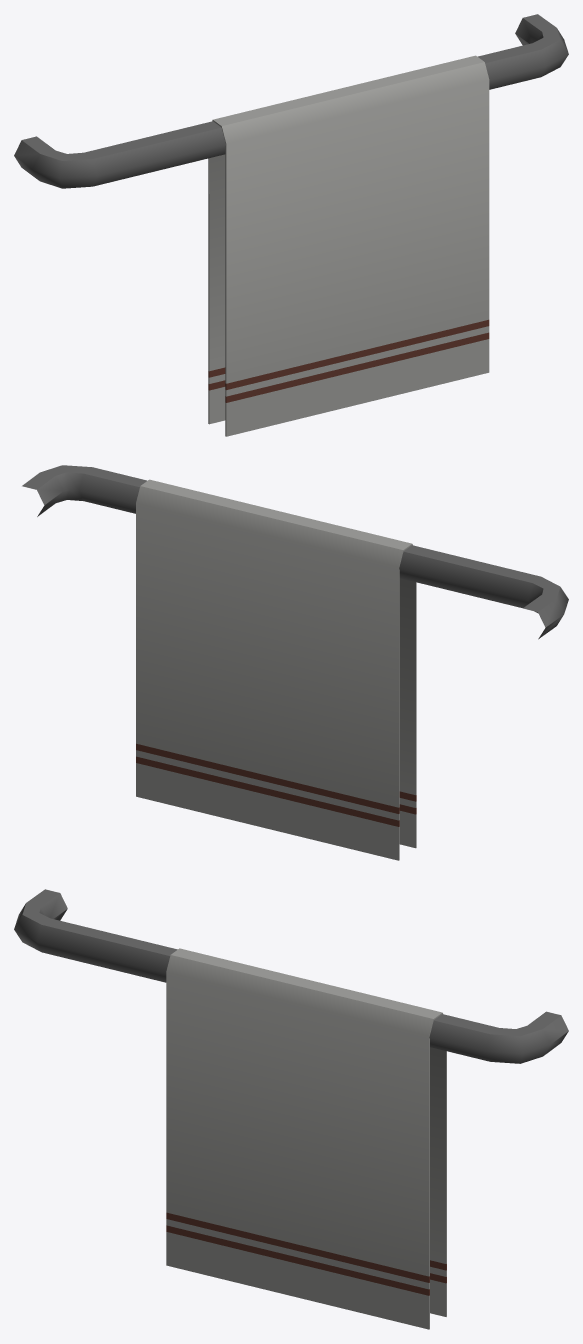
File: Bathroom_Towel.glb
3 renders of one model, top to bottom at view 1: azimuth 30°, elevation 25°; view 2: azimuth 150°, elevation 25°; view 3: azimuth 330°, elevation 25°, orthographic.
Visible parts, largest first — view 1: Bathroom_Towel; view 2: Bathroom_Towel; view 3: Bathroom_Towel.
Part boxes in pixels (x1,y1,x2,y2): Bathroom_Towel: (14, 14, 568, 436); Bathroom_Towel: (22, 465, 568, 860); Bathroom_Towel: (14, 889, 568, 1329).
Bounding box in the file's own units: 0.5792 × 0.3197 × 0.0788.
3 materials, 3 textured.
